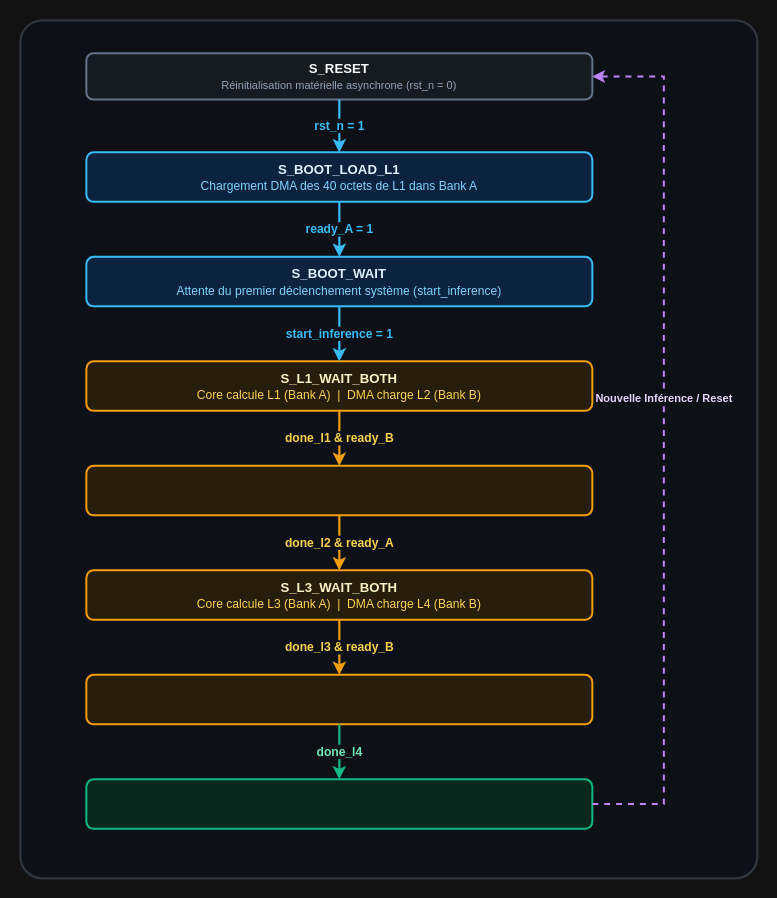
This 777x898 diagram has some shape labels left out. The shapes that lost their labels are listed below. From the top down, each one's box as (x1, y1, x2, y2) in pixels, then its label:
(85, 464, 593, 516): S_L2_WAIT_BOTH Core calcule L2 (Bank B) | DMA charge L3 (Bank A)
(85, 673, 593, 725): S_L4_WAIT_BOTH Core calcule L4 (Bank B) | Inférence finale
(85, 778, 593, 829): S_IDLE Génération final_valid = 1 | Stabilisation des décisions
